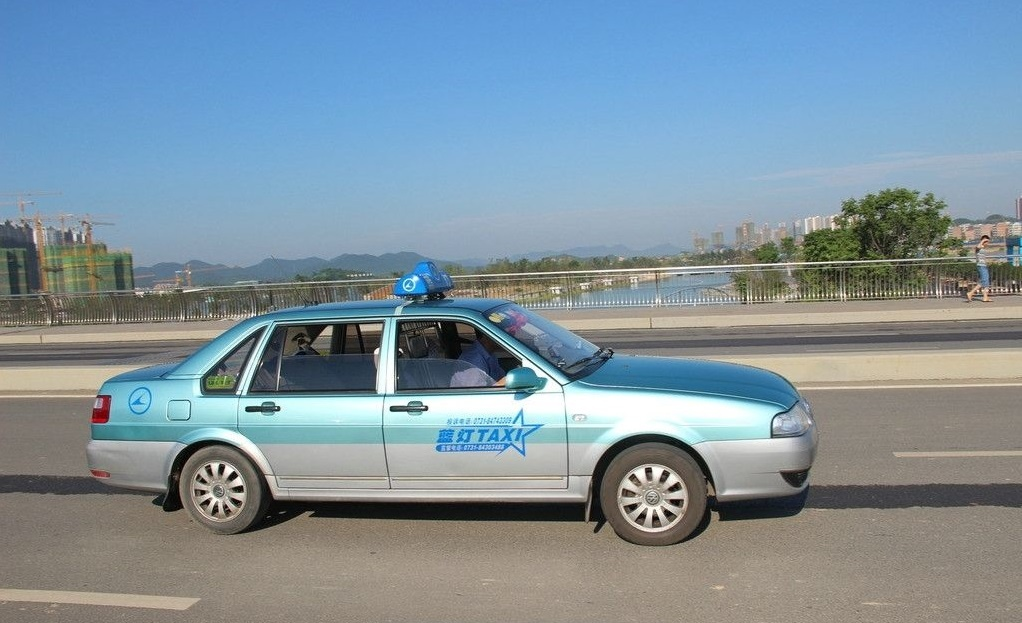taxi: (81, 260, 830, 550)
